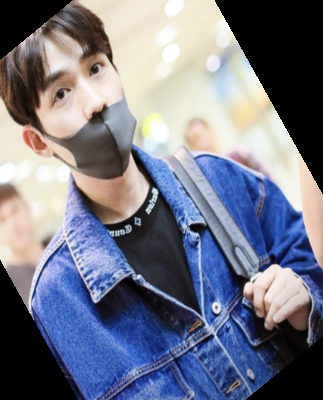mask_weared_incorrect: (1, 3, 147, 182)
